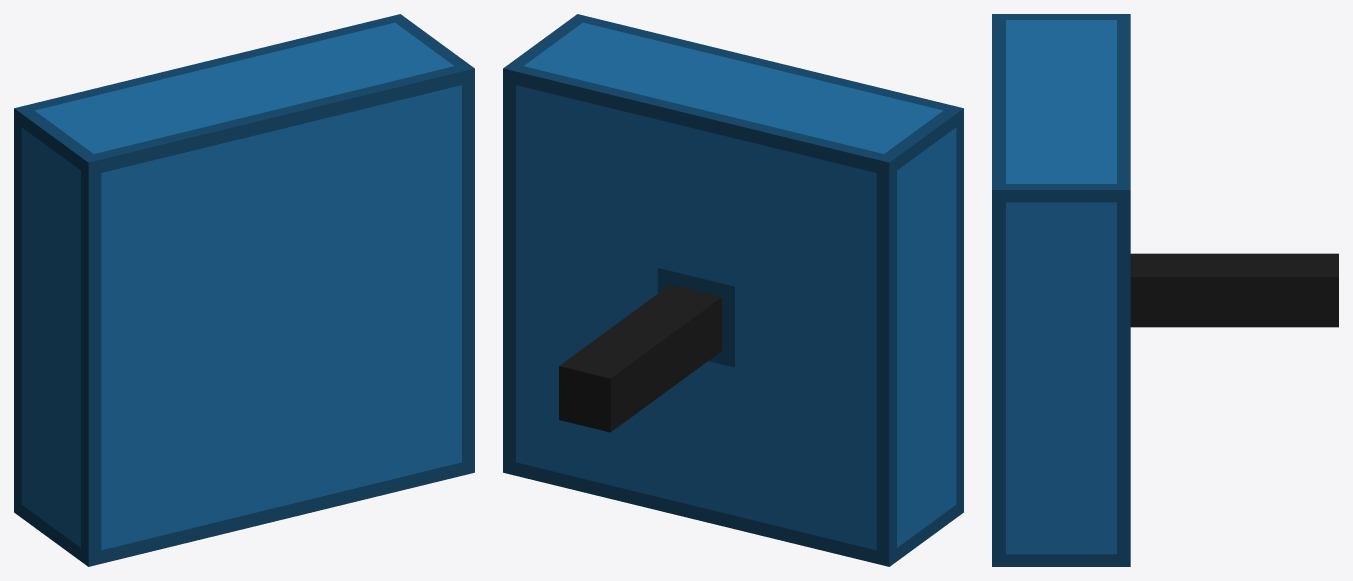
File: Piston-0.obj
The picture shows the model from 3 angles, left to right: view 1: azimuth 30°, elevation 25°; view 2: azimuth 150°, elevation 25°; view 3: azimuth 270°, elevation 25°; orthographic projection. The views are drawn at different scales.
Parts seen in each view (by area): view 1: Piston-0; view 2: Piston-0; view 3: Piston-0.
Part boxes in pixels (x1,y1,x2,y2): Piston-0: (14, 14, 474, 566); Piston-0: (503, 14, 963, 566); Piston-0: (992, 14, 1338, 566).
Bounding box in the file's own units: 30 × 30 × 25.
1 material, 1 textured.
